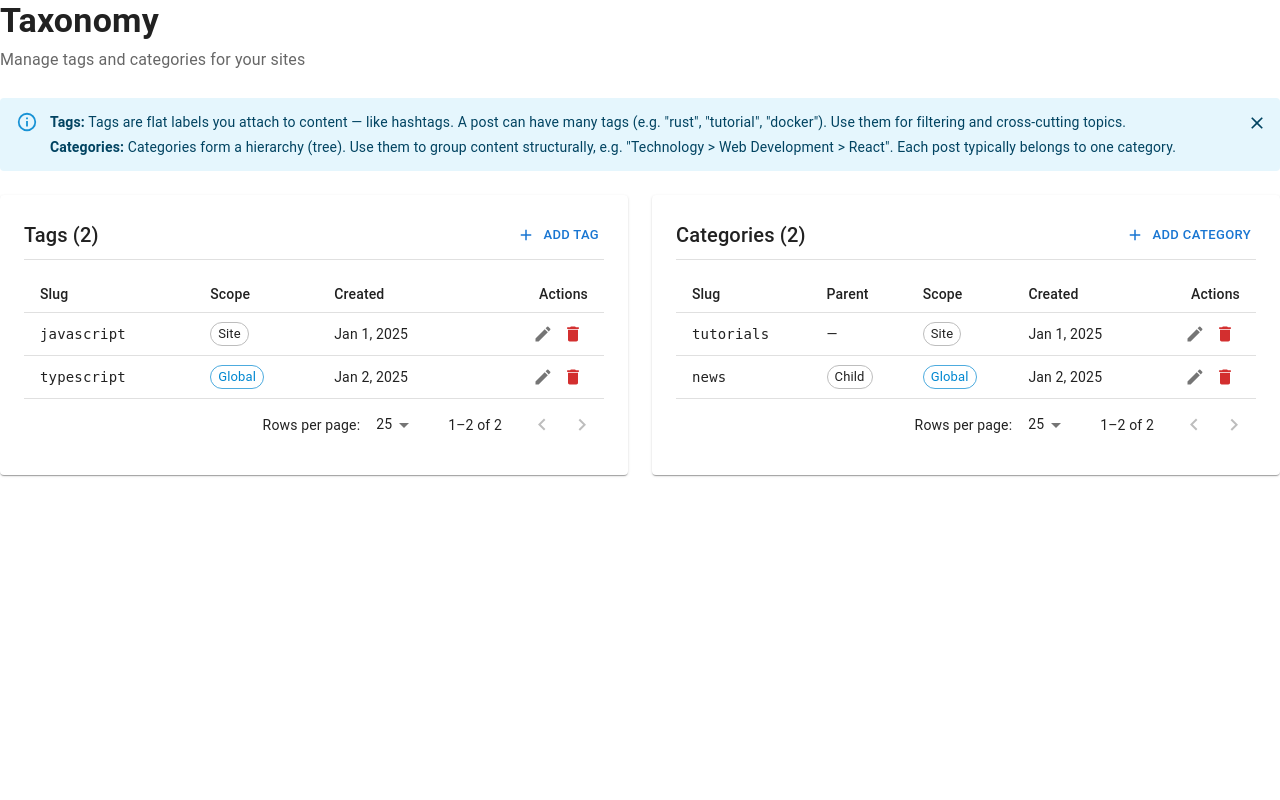
it: TaxonomyPage › opens category form dialog on add click
This screenshot has width=1280, height=800.
Expected: the text "tutorials" is shown, [692, 326, 769, 342]
Click the button "Add Category" at (1190, 235), box [1124, 220, 1256, 250]
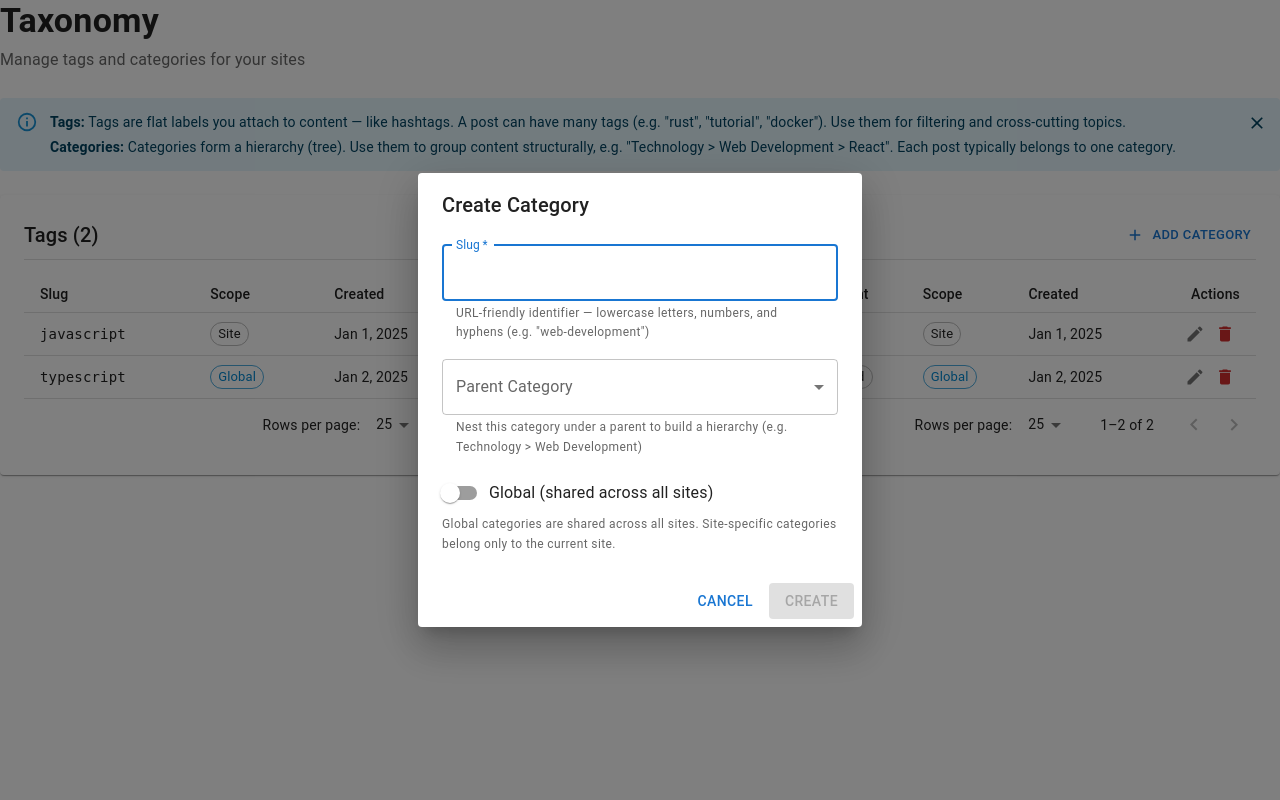
Result: the dialog is shown at [418, 172, 862, 627]
